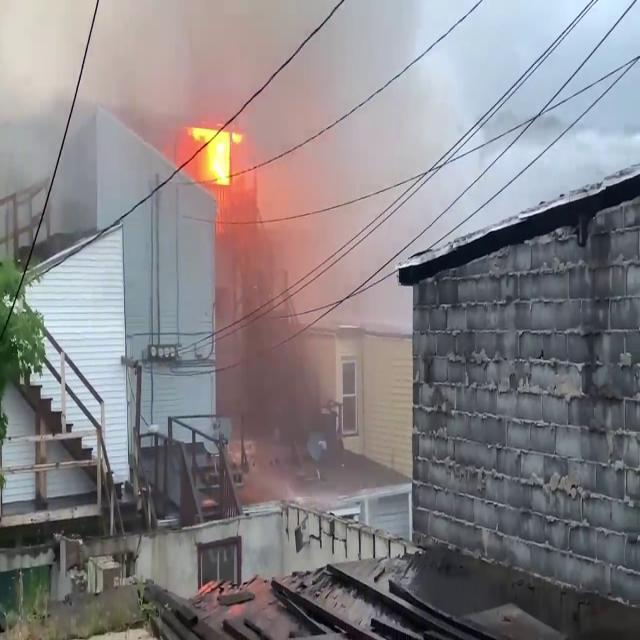Fire: (184, 116, 244, 192)
Smoke: (108, 6, 438, 302)
